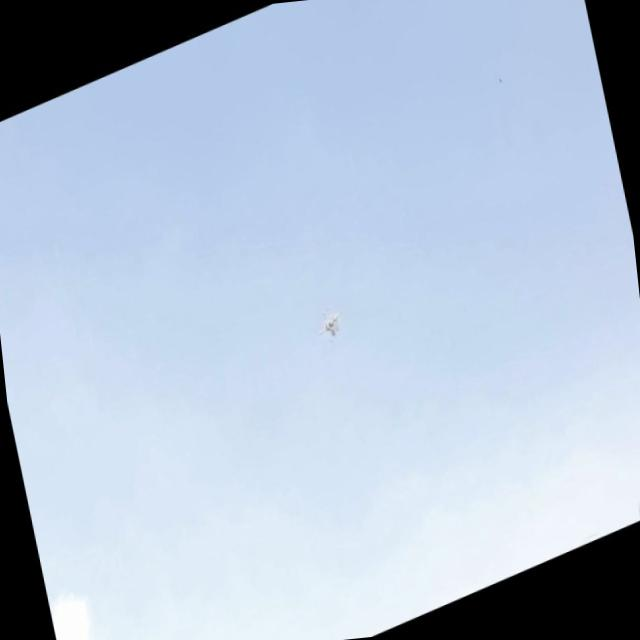drone: (315, 302, 346, 345)
